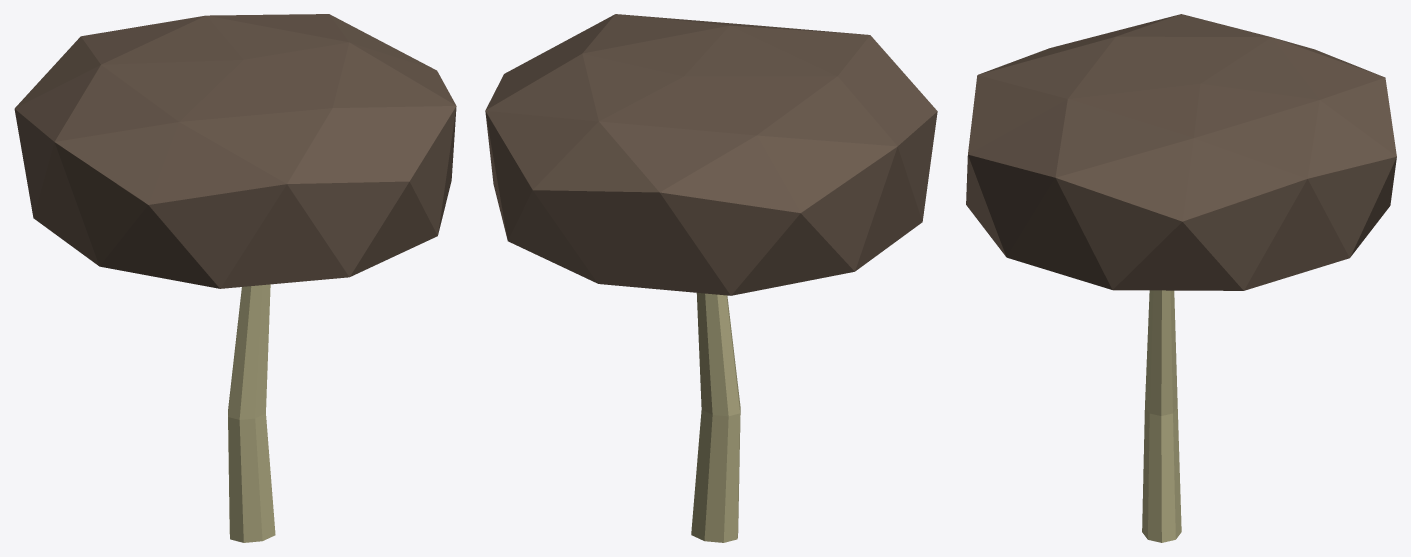
File: flat_mushroom_brown.fbx
The picture shows the model from 3 angles, left to right: view 1: azimuth 30°, elevation 25°; view 2: azimuth 150°, elevation 25°; view 3: azimuth 270°, elevation 25°; orthographic projection. The views are drawn at different scales.
Parts seen in each view (by area): view 1: flat_mushroom_brown; view 2: flat_mushroom_brown; view 3: flat_mushroom_brown.
Part boxes in pixels (box(x1,y1,x2,y2)): flat_mushroom_brown: box(14, 14, 456, 542); flat_mushroom_brown: box(485, 14, 937, 542); flat_mushroom_brown: box(966, 14, 1396, 542).
Bounding box in the file's own units: 60.92 × 69.49 × 59.83.
